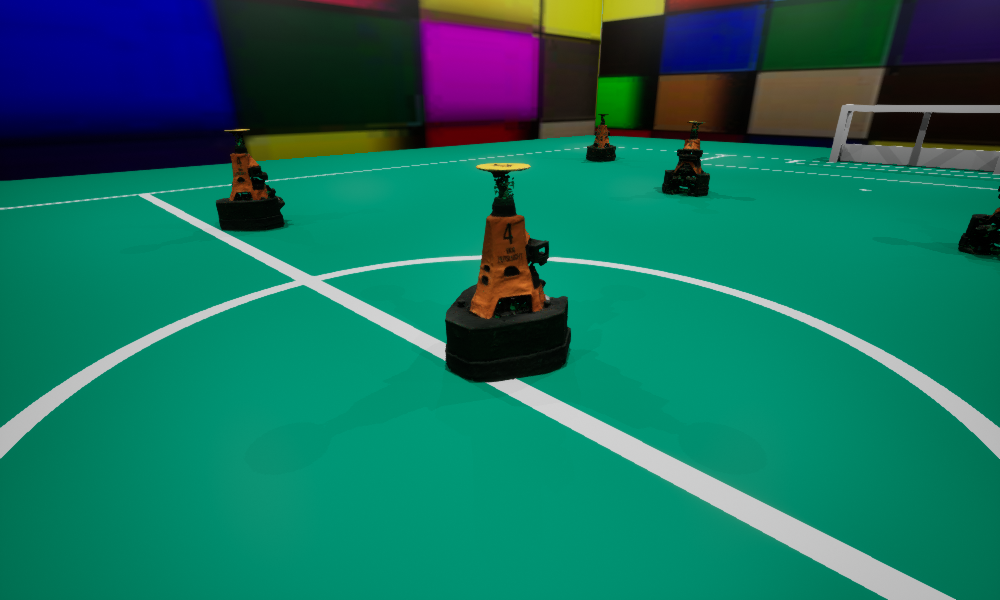o: (445, 163, 570, 381), (216, 129, 284, 230), (662, 121, 709, 195), (958, 186, 999, 255), (586, 114, 615, 161)
